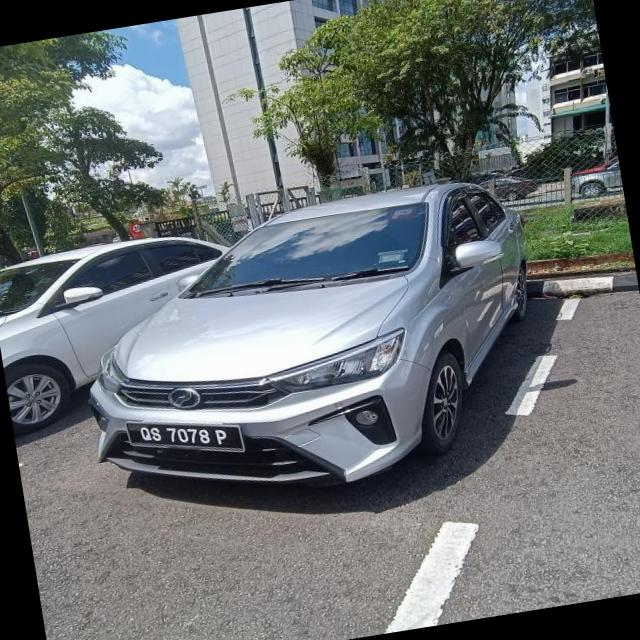PeroduaBezza: (61, 169, 560, 523)
